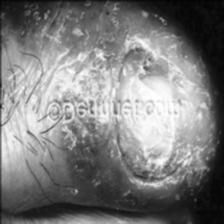Non-Cancerous Skin Condition: (0, 0, 216, 103), (65, 111, 221, 206)
